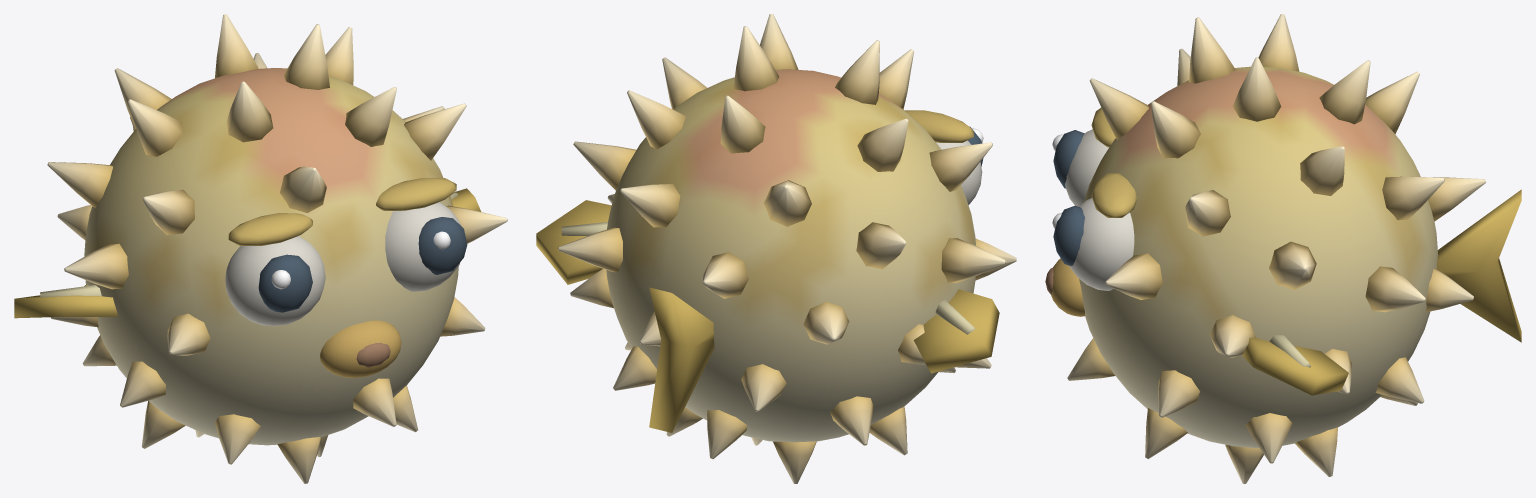
File: enemigo-pez-globo.glb
3 renders of one model, left to right at view 1: azimuth 30°, elevation 25°; view 2: azimuth 150°, elevation 25°; view 3: azimuth 270°, elevation 25°, orthographic.
Visible parts, largest first — view 1: Body, Spikes, Fin_L; view 2: Body, Spikes, Tail, Fin_L, Fin_R; view 3: Body, Spikes, Tail, Fin_R.
Boxes of the visible parts, box(x1,y1,x2,y2) form: Body: box(84, 68, 467, 445); Spikes: box(47, 14, 507, 483); Fin_L: box(14, 285, 118, 318); Body: box(606, 69, 983, 442); Spikes: box(558, 14, 1016, 483); Tail: box(649, 287, 714, 432); Fin_L: box(913, 289, 999, 373); Fin_R: box(536, 200, 611, 284); Body: box(1045, 66, 1438, 448); Spikes: box(1067, 14, 1485, 483); Tail: box(1437, 189, 1521, 342); Fin_R: box(1242, 335, 1348, 395).
Bounding box in the file's own units: 1 × 0.8852 × 0.8927.
